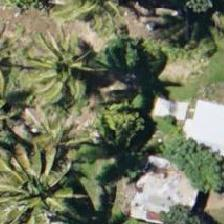coconut_tree: (14, 43, 104, 133), (0, 152, 71, 223)
